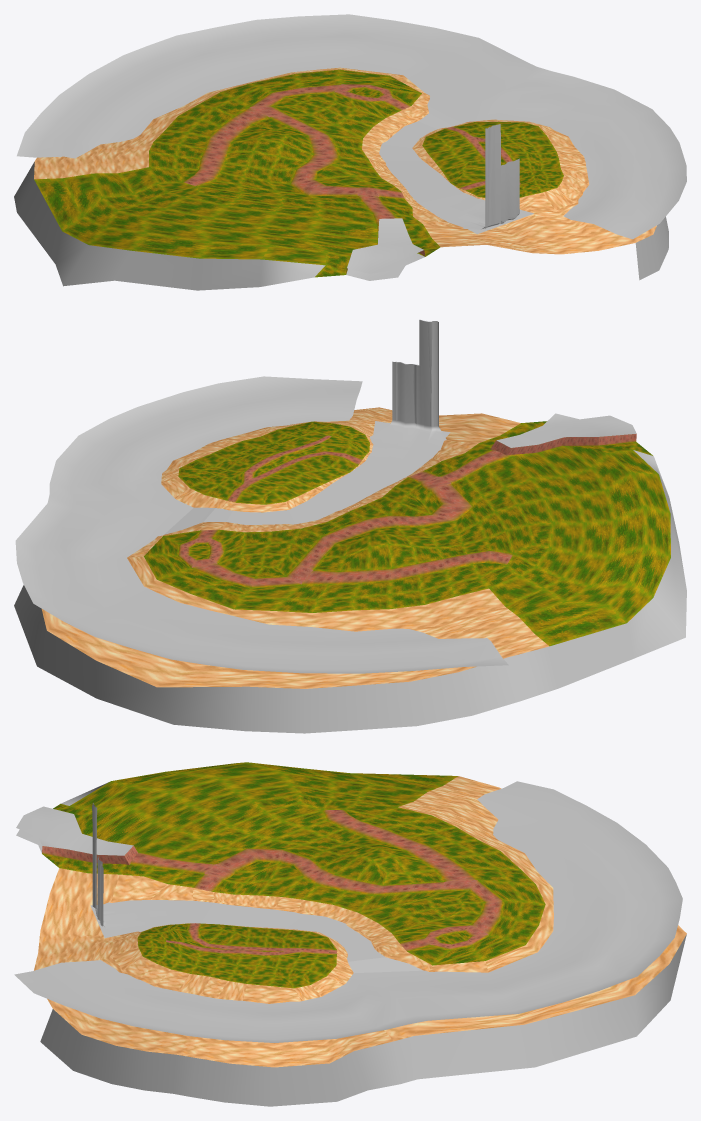
File: Terrain_Base_Art.fbx
3 renders of one model, top to bottom at view 1: azimuth 30°, elevation 25°; view 2: azimuth 150°, elevation 25°; view 3: azimuth 270°, elevation 25°, orthographic. The views are drawn at different scales.
Parts seen in each view (by area): view 1: Terrain_Base, Terrain_Sea, Terrain_Base_Pathway, Terrain_Base_River, Terrain_Base_Fall, Terrain_Cave_Elevation; view 2: Terrain_Base, Terrain_Sea, Terrain_Base_Pathway, Terrain_Base_River, Terrain_Base_Fall, Terrain_Cave_Elevation; view 3: Terrain_Base, Terrain_Sea, Terrain_Base_Pathway, Terrain_Base_River, Terrain_Cave_Elevation, Terrain_Base_Fall.
Boxes of the visible parts, box(x1,y1,x2,y2) form: Terrain_Base: box(14, 67, 668, 290); Terrain_Sea: box(17, 14, 686, 239); Terrain_Base_Pathway: box(183, 84, 520, 236); Terrain_Base_River: box(379, 99, 533, 234); Terrain_Base_Fall: box(437, 124, 519, 230); Terrain_Cave_Elevation: box(346, 218, 425, 273); Terrain_Base: box(14, 407, 686, 733); Terrain_Sea: box(15, 376, 508, 673); Terrain_Base_Pathway: box(178, 435, 530, 587); Terrain_Base_River: box(164, 421, 450, 534); Terrain_Base_Fall: box(369, 320, 446, 458); Terrain_Cave_Elevation: box(490, 413, 636, 455); Terrain_Base: box(16, 762, 686, 1106); Terrain_Sea: box(14, 781, 682, 1042); Terrain_Base_Pathway: box(130, 810, 503, 955); Terrain_Base_River: box(90, 900, 423, 973); Terrain_Cave_Elevation: box(16, 806, 137, 865); Terrain_Base_Fall: box(92, 803, 175, 931).
Bounding box in the file's own units: 24826 × 7161 × 23726.
